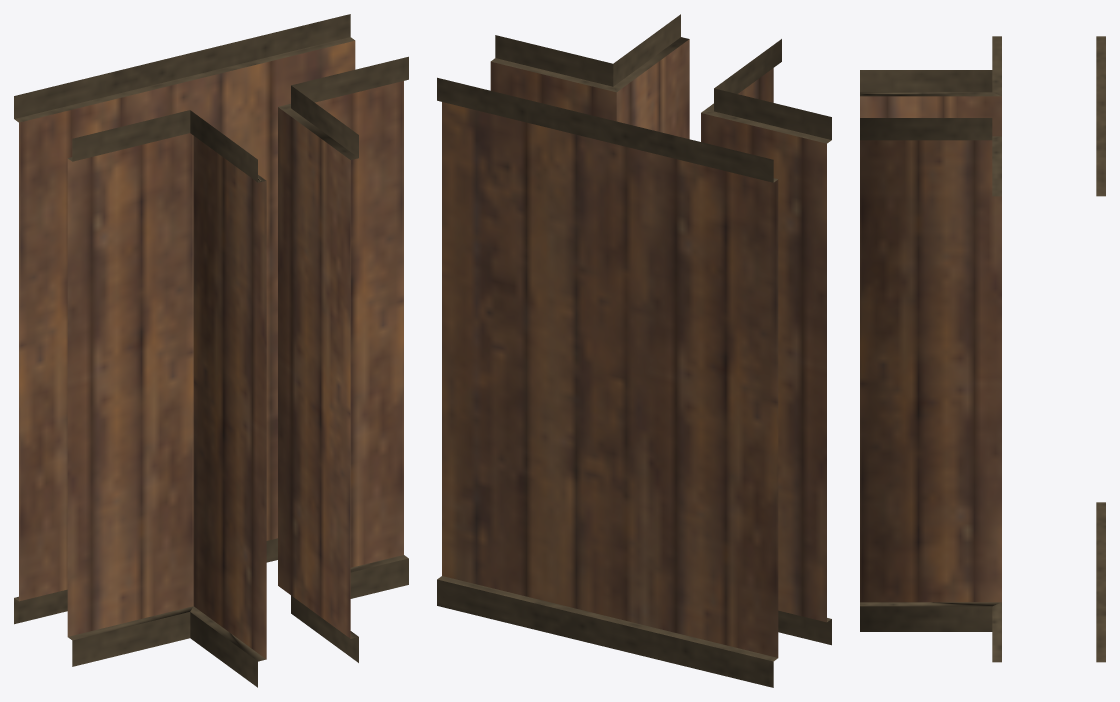
Rendered from MS_3mWallpiece_T.fbx.
3 renders of one model, left to right at view 1: azimuth 30°, elevation 25°; view 2: azimuth 150°, elevation 25°; view 3: azimuth 270°, elevation 25°, orthographic. The views are drawn at different scales.
Visible parts, largest first — view 1: Cube; view 2: Cube; view 3: Cube.
Boxes of the visible parts, box(x1,y1,x2,y2) form: Cube: box(14, 14, 408, 687); Cube: box(437, 14, 831, 687); Cube: box(860, 36, 1105, 662).
Bounding box in the file's own units: 200 × 300 × 130.
